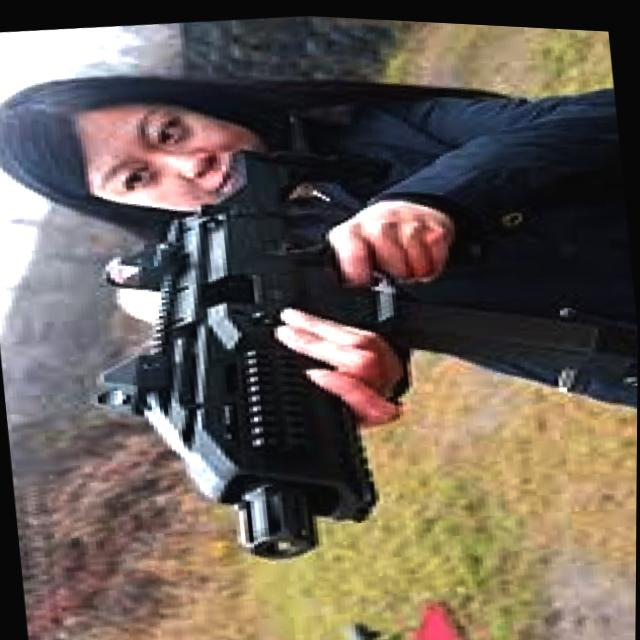firearm: (59, 97, 639, 590)
